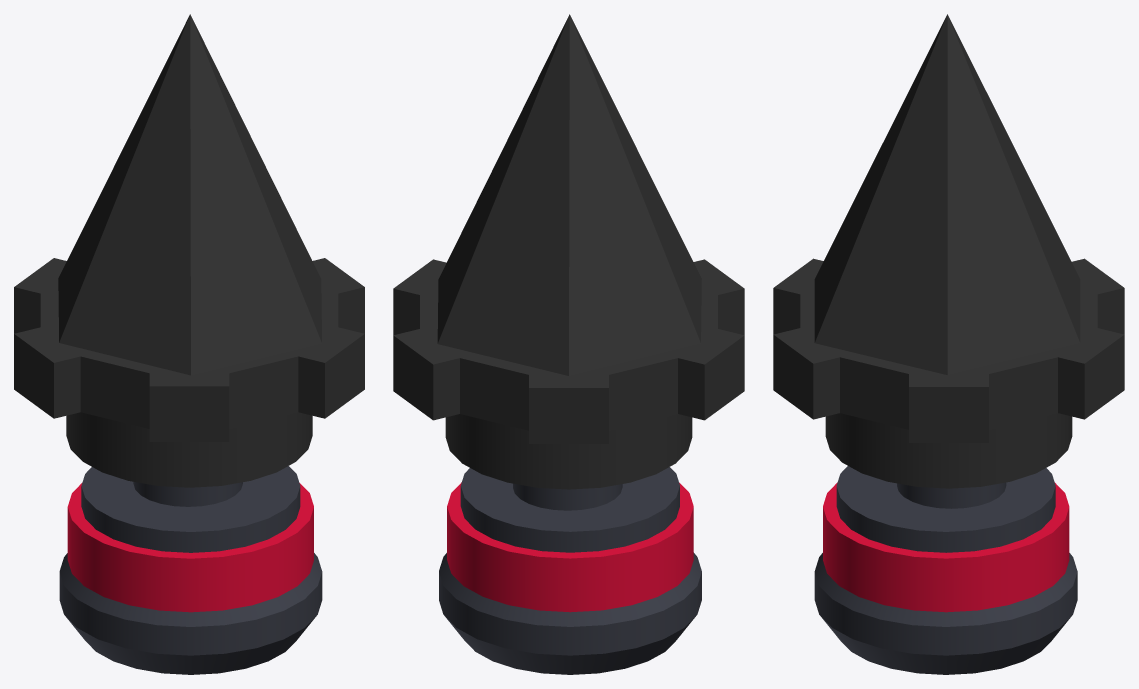
The model's file is tower_obsidian.obj.
The picture shows the model from 3 angles, left to right: view 1: azimuth 30°, elevation 25°; view 2: azimuth 150°, elevation 25°; view 3: azimuth 270°, elevation 25°; orthographic projection.
Parts seen in each view (by area): view 1: mergedBlocks; view 2: mergedBlocks; view 3: mergedBlocks.
Boxes of the visible parts, box(x1,y1,x2,y2) form: mergedBlocks: box(14, 14, 364, 674); mergedBlocks: box(393, 14, 744, 674); mergedBlocks: box(773, 14, 1124, 674).
Size of the model in its own units: 1.31 by 2.48 by 1.28.
